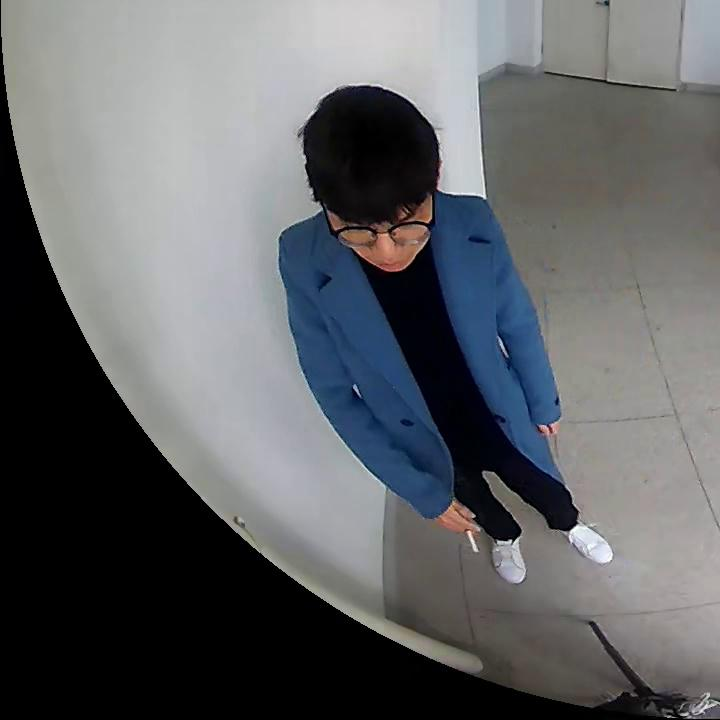handsmoke: (447, 507, 483, 555)
handwithoutsmoke: (537, 422, 561, 438)
mouthwithoutsmoke: (301, 86, 439, 274)
